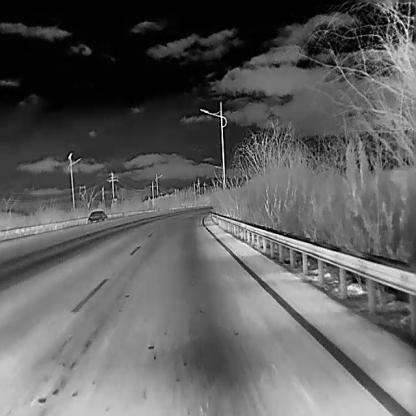car: (86, 210, 106, 224)
